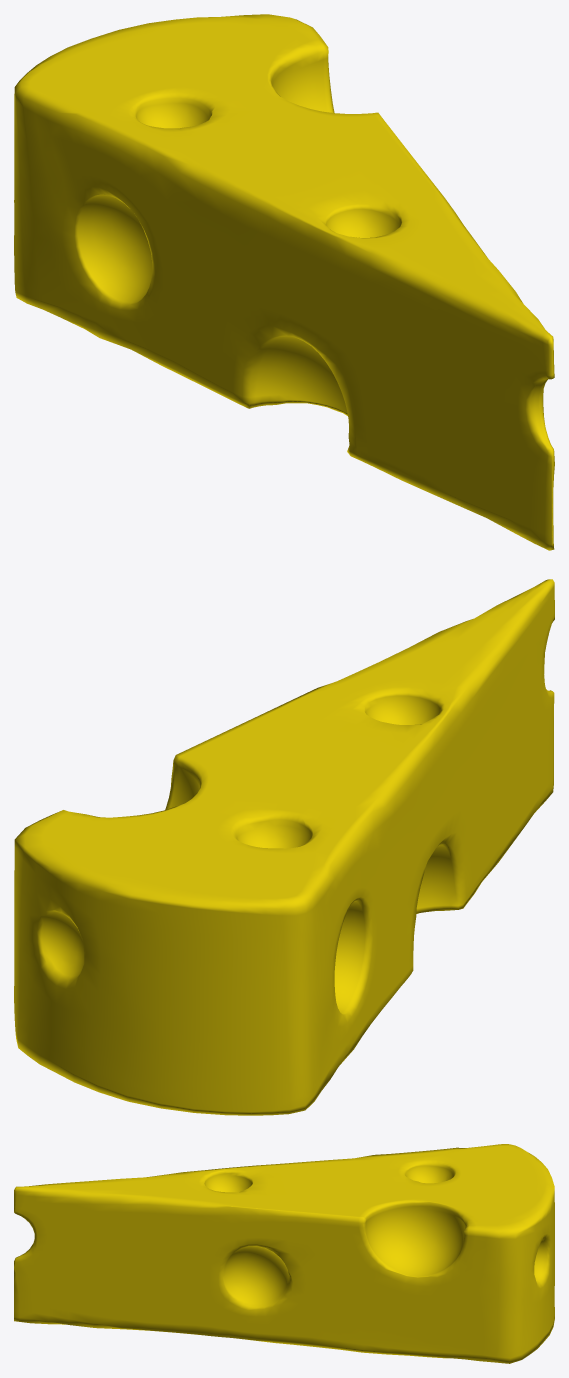
Rendered from cheese.fbx.
3 views of the same model, one above another, from view 1: azimuth 30°, elevation 25°; view 2: azimuth 150°, elevation 25°; view 3: azimuth 270°, elevation 25° (orthographic). The views are drawn at different scales.
Visible parts, largest first — view 1: cheeseSmooth; view 2: cheeseSmooth; view 3: cheeseSmooth.
Boxes of the visible parts, <box> form: cheeseSmooth: <box>14,14,554,550</box>; cheeseSmooth: <box>14,579,554,1115</box>; cheeseSmooth: <box>14,1144,554,1363</box>.
Bounding box in the file's own units: 0.0978 × 0.0687 × 0.2502.
